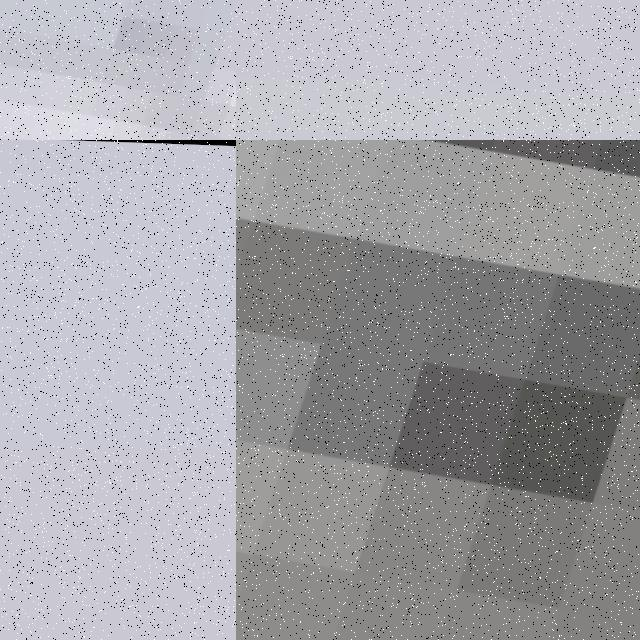drone: (236, 140, 640, 640), (0, 0, 236, 140)
